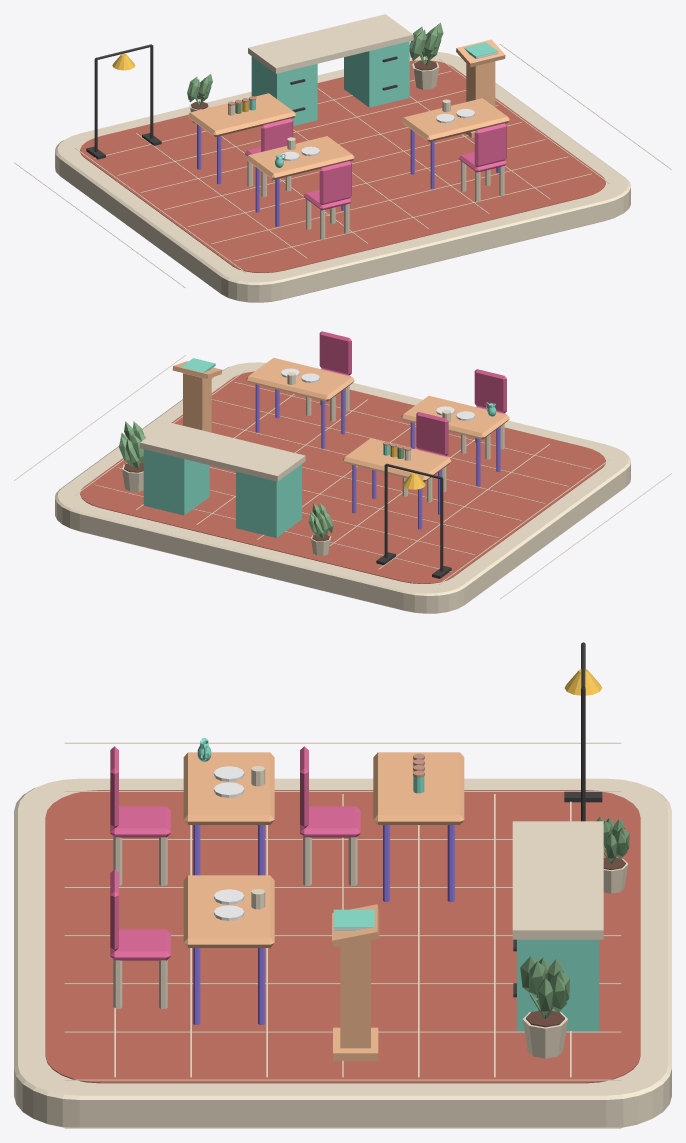
3 views of the same model, one above another, from view 1: azimuth 30°, elevation 25°; view 2: azimuth 150°, elevation 25°; view 3: azimuth 270°, elevation 25° (orthographic). The views are drawn at different scales.
Visible parts, largest first — view 1: COM-02 Floor Surface, COM-01 Rounded Base Direct, Worktop, Storage module.001, Storage module, Rounded table top.001, Rounded table top.002, Rounded table top, Pot, Backrest, Backrest.001, Body (+4 smaller); view 2: COM-02 Floor Surface, COM-01 Rounded Base Direct, Worktop, Storage module, Storage module.001, Rounded table top.001, Rounded table top.002, Rounded table top, Body, Pot, Backrest.002, Backrest.001 (+2 smaller); view 3: COM-02 Floor Surface, COM-01 Rounded Base Direct, Worktop, Rounded table top.002, Rounded table top.001, Rounded table top, Storage module.001, Pot, Body, Pot.001, Seat, Seat.001 (+12 smaller).
Part boxes in pixels (x1=…): COM-02 Floor Surface: x1=80, y1=60, x2=605, y2=272; COM-01 Rounded Base Direct: x1=55, y1=52, x2=630, y2=302; Worktop: x1=248, y1=14, x2=413, y2=73; Storage module.001: x1=344, y1=41, x2=409, y2=107; Storage module: x1=251, y1=56, x2=317, y2=125; Rounded table top.001: x1=401, y1=98, x2=509, y2=141; Rounded table top.002: x1=188, y1=93, x2=296, y2=137; Rounded table top: x1=246, y1=136, x2=354, y2=179; Pot: x1=409, y1=22, x2=443, y2=89; Backrest: x1=319, y1=161, x2=351, y2=204; Backrest.001: x1=474, y1=123, x2=506, y2=167; Body: x1=466, y1=61, x2=495, y2=106; COM-02 Floor Surface: x1=80, y1=371, x2=605, y2=583; COM-01 Rounded Base Direct: x1=55, y1=362, x2=630, y2=613; Worktop: x1=140, y1=422, x2=305, y2=481; Storage module: x1=236, y1=464, x2=301, y2=537; Storage module.001: x1=143, y1=449, x2=209, y2=515; Rounded table top.001: x1=246, y1=358, x2=354, y2=401; Rounded table top.002: x1=343, y1=438, x2=451, y2=482; Rounded table top: x1=401, y1=395, x2=509, y2=439; Body: x1=183, y1=373, x2=211, y2=432; Pot: x1=119, y1=421, x2=146, y2=491; Backrest.002: x1=416, y1=412, x2=448, y2=455; Backrest.001: x1=319, y1=331, x2=351, y2=374; COM-02 Floor Surface: x1=45, y1=790, x2=640, y2=1083; COM-01 Rounded Base Direct: x1=14, y1=778, x2=671, y2=1127; Worktop: x1=512, y1=821, x2=603, y2=939; Rounded table top.002: x1=373, y1=752, x2=464, y2=824; Rounded table top.001: x1=183, y1=875, x2=274, y2=947; Rounded table top: x1=183, y1=752, x2=274, y2=824; Storage module.001: x1=517, y1=939, x2=599, y2=1031; Pot: x1=520, y1=956, x2=569, y2=1058; Body: x1=340, y1=940, x2=370, y2=1048; Pot.001: x1=596, y1=817, x2=629, y2=893; Seat: x1=110, y1=806, x2=170, y2=837; Seat.001: x1=110, y1=929, x2=170, y2=960.
Bounding box in the file's own units: 7.21 × 1.66 × 5.2.
1 material, 1 textured.
